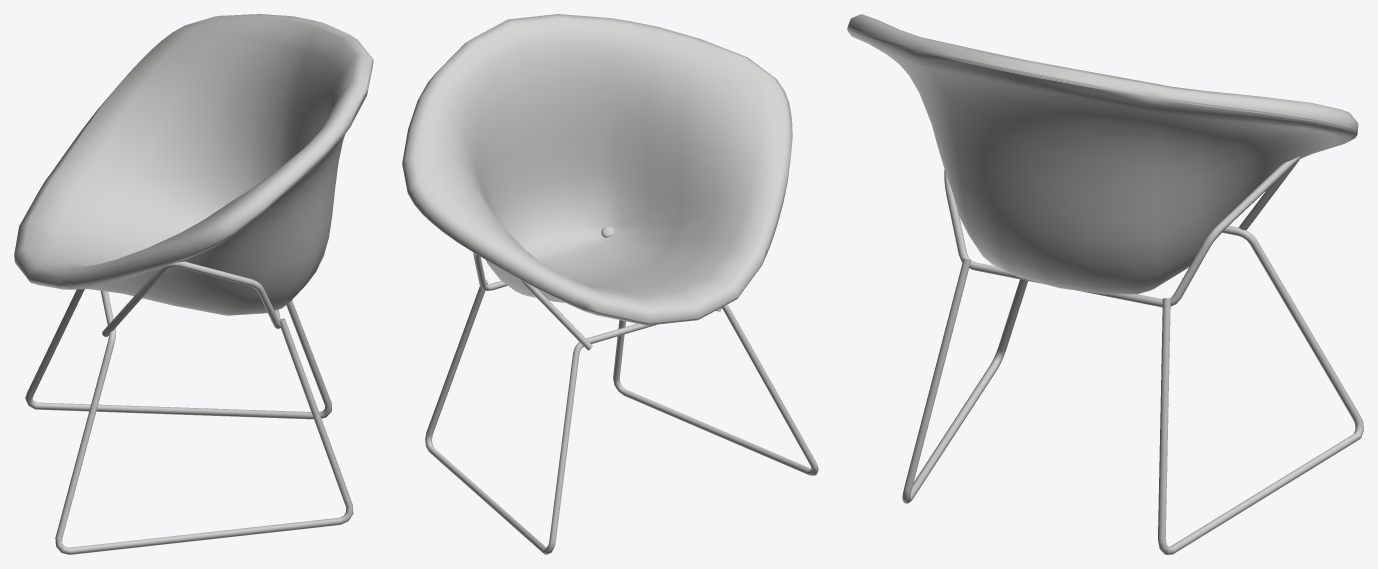
Rendered from WhiteLeather.FBX.
The picture shows the model from 3 angles, left to right: view 1: azimuth 30°, elevation 25°; view 2: azimuth 150°, elevation 25°; view 3: azimuth 270°, elevation 25°; orthographic projection. The views are drawn at different scales.
Visible parts, largest first — view 1: WhiteLeather; view 2: WhiteLeather; view 3: WhiteLeather.
Part boxes in pixels (box(x1,y1,x2,y2)): WhiteLeather: box(14, 14, 373, 554); WhiteLeather: box(402, 14, 818, 554); WhiteLeather: box(847, 14, 1363, 554).
Bounding box in the file's own units: 2.27 × 2.61 × 2.54.
